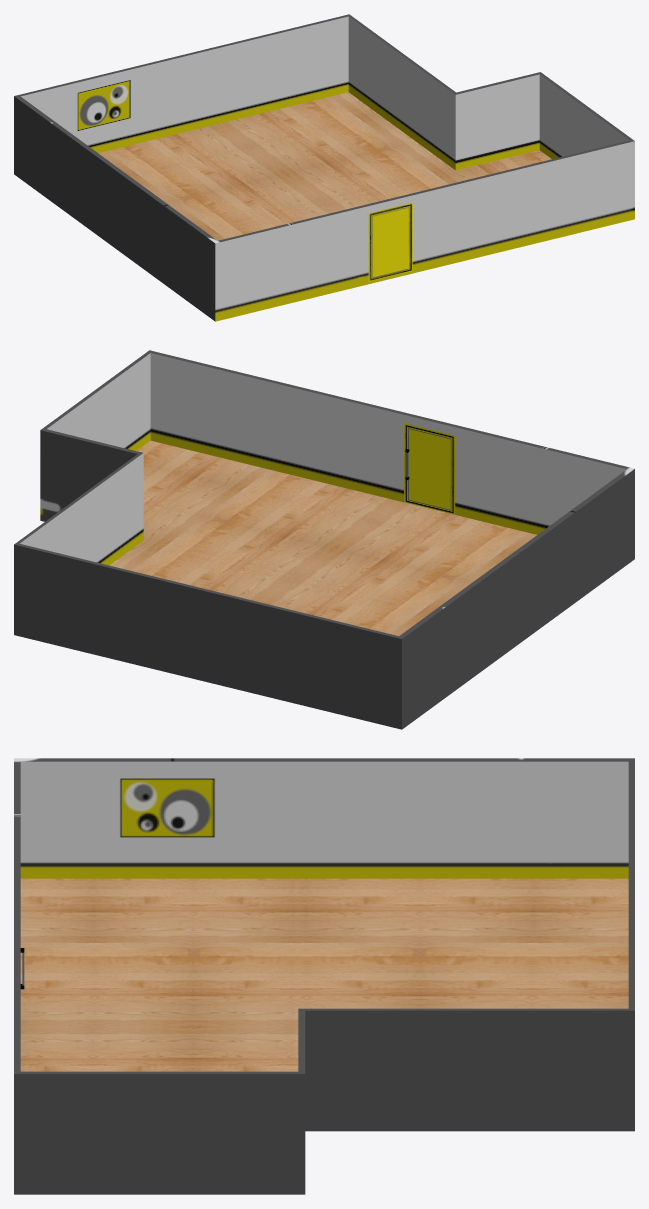
Rendered from study.FBX.
3 views of the same model, one above another, from view 1: azimuth 30°, elevation 25°; view 2: azimuth 150°, elevation 25°; view 3: azimuth 270°, elevation 25° (orthographic). The views are drawn at different scales.
Parts seen in each view (by area): view 1: Box001, Object001; view 2: Box001, Object001; view 3: Box001.
Boxes of the visible parts, x1,y1,x2,y2 form: Box001: (14,14,634,321); Object001: (368,203,412,281); Box001: (14,350,634,729); Object001: (404,423,455,514); Box001: (14,758,634,1194).
Bounding box in the file's own units: 197 × 35.03 × 163.
